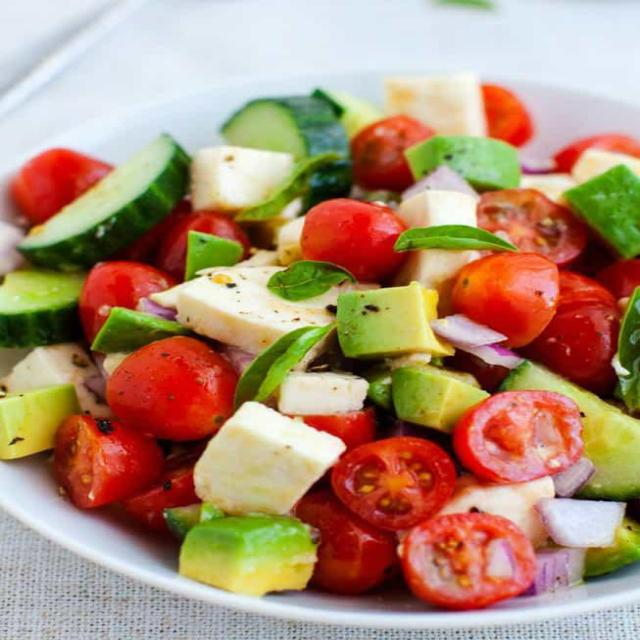Tomato: (107, 328, 239, 432), (449, 393, 588, 484), (398, 515, 536, 604), (336, 432, 460, 529), (48, 404, 144, 511), (296, 187, 410, 275), (455, 244, 555, 337), (543, 273, 621, 376)
